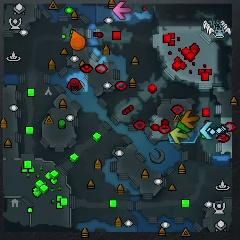p5: (70, 31, 87, 49)
x1: (113, 2, 132, 20)
x2: (170, 128, 188, 144)
x3: (201, 122, 218, 140)
x4: (177, 119, 192, 133)
x5: (182, 110, 199, 128)
